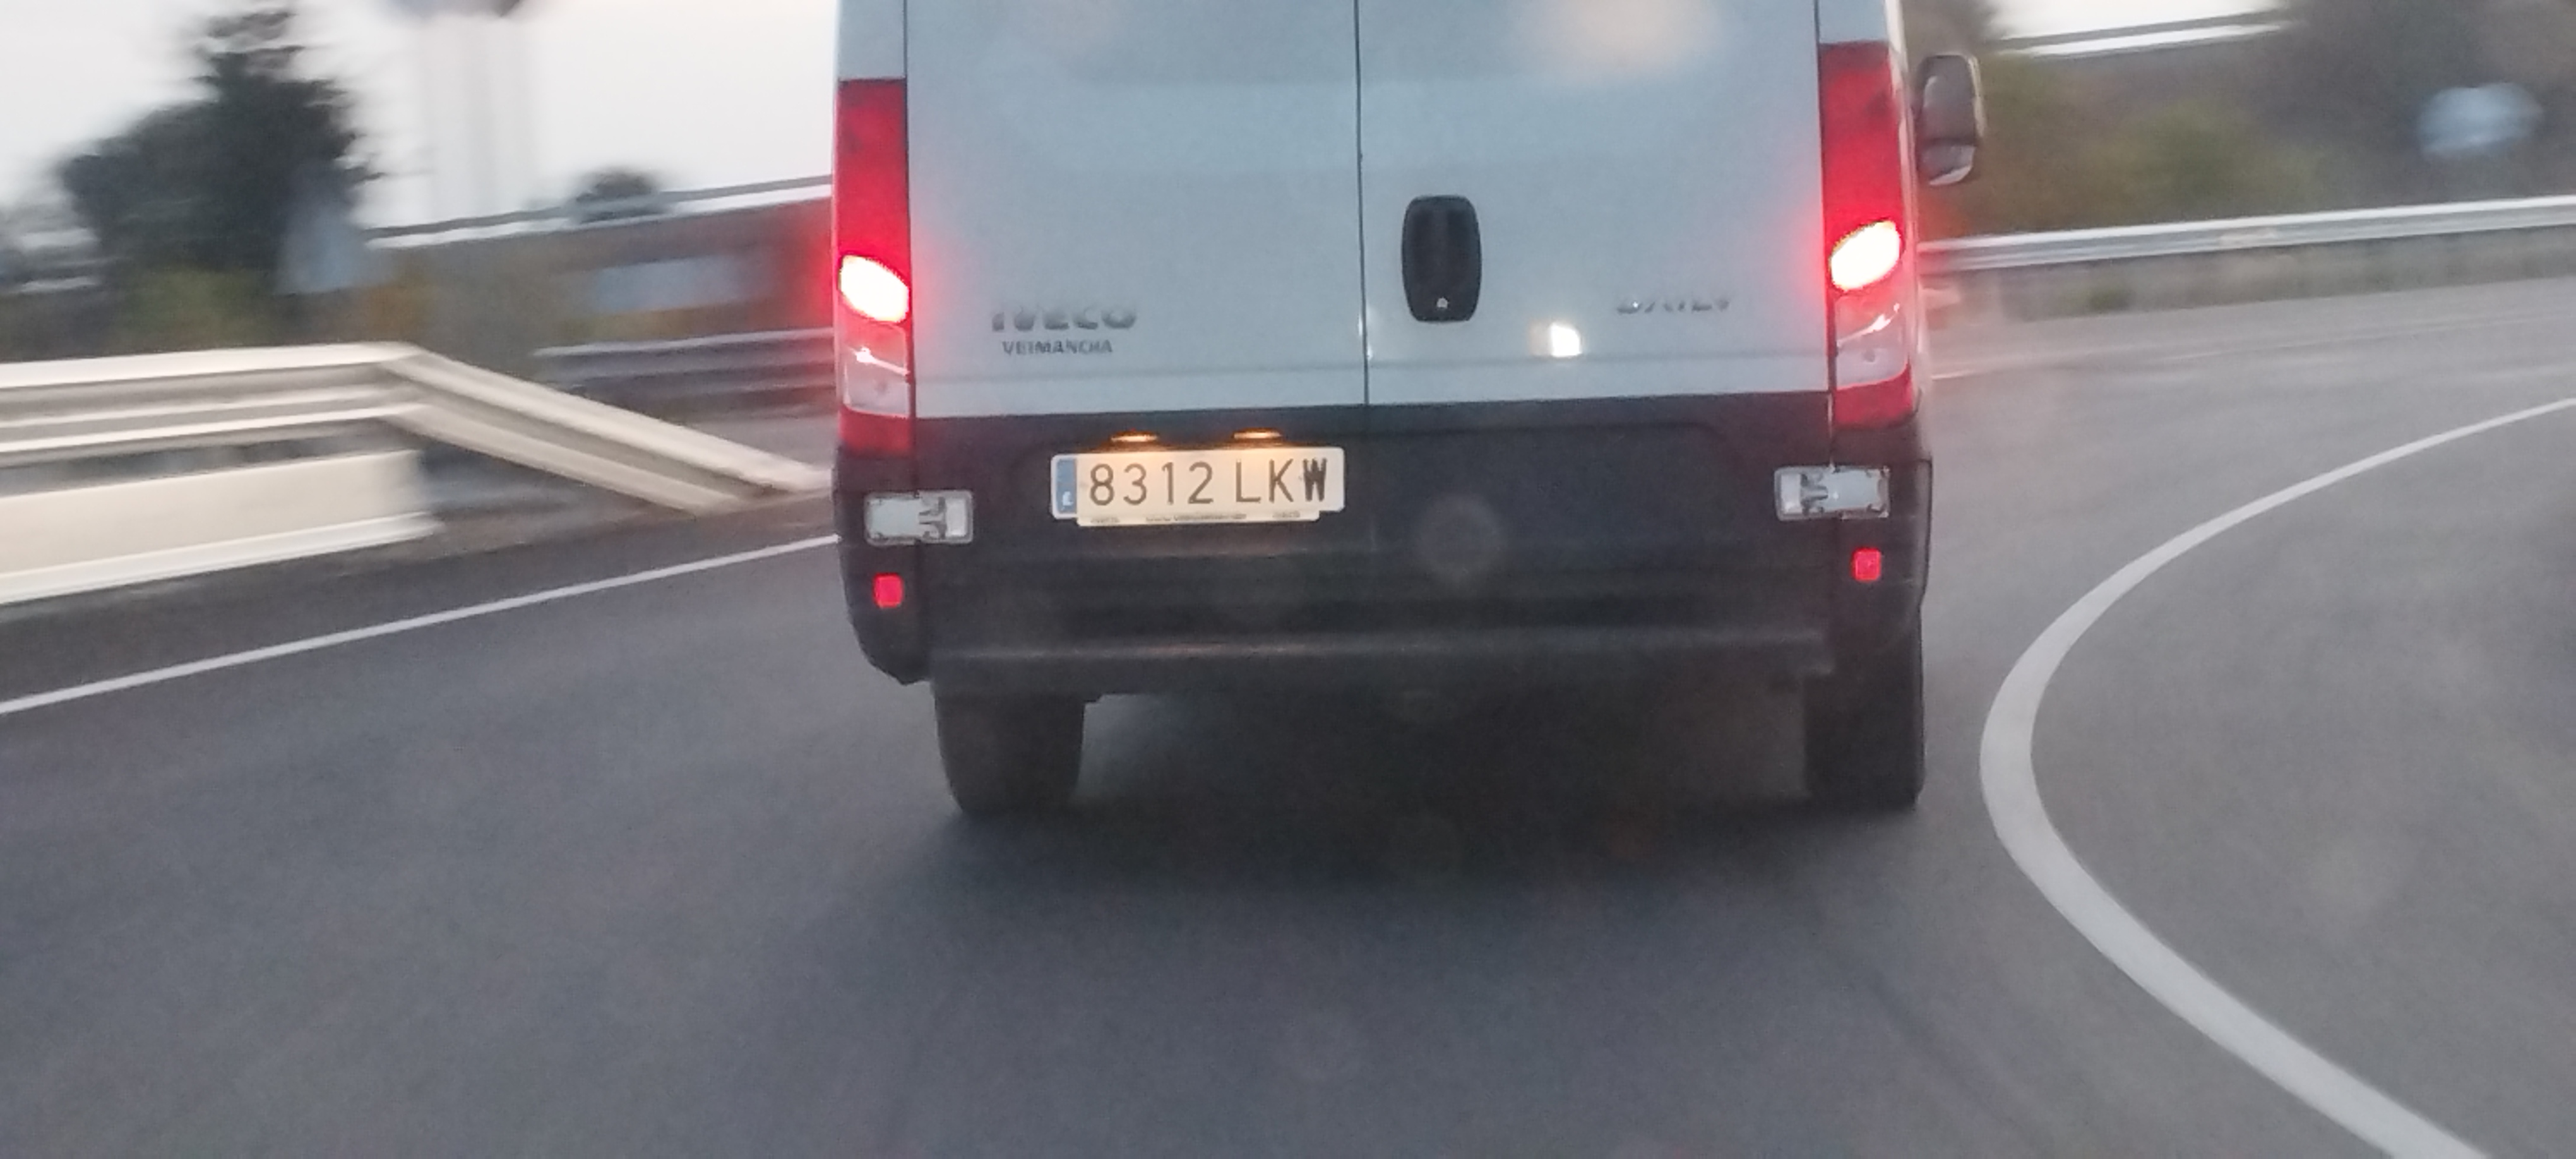Car: (833, 0, 1940, 802)
Plate: (1049, 452, 1344, 519)
